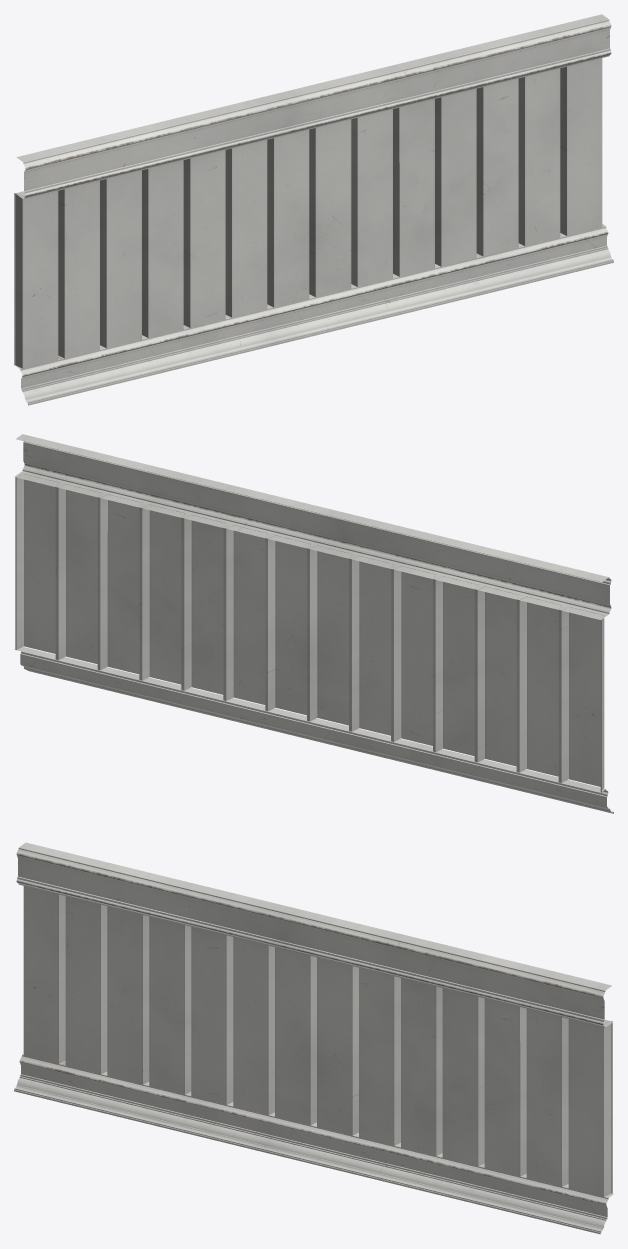
Rendered from SM_WoodPannel02_WallEditable (3).fbx.
3 views of the same model, one above another, from view 1: azimuth 30°, elevation 25°; view 2: azimuth 150°, elevation 25°; view 3: azimuth 330°, elevation 25° (orthographic).
Visible parts, largest first — view 1: SM_WoodPannel02_WallEditable, M_WhitePanelHigh, M_WhitePanelLow; view 2: SM_WoodPannel02_WallEditable, M_WhitePanelHigh, M_WhitePanelLow; view 3: SM_WoodPannel02_WallEditable, M_WhitePanelHigh, M_WhitePanelLow.
Boxes of the visible parts, x1,y1,x2,y2 form: SM_WoodPannel02_WallEditable: (14,58,602,368); M_WhitePanelHigh: (15,14,611,199); M_WhitePanelLow: (15,224,613,405); SM_WoodPannel02_WallEditable: (15,474,604,792); M_WhitePanelHigh: (15,434,611,619); M_WhitePanelLow: (14,647,613,813); SM_WoodPannel02_WallEditable: (23,886,612,1196); M_WhitePanelHigh: (16,842,613,1027); M_WhitePanelLow: (14,1054,613,1234).
Size of the model in its own units: 3.29 by 1.28 by 0.1282.
